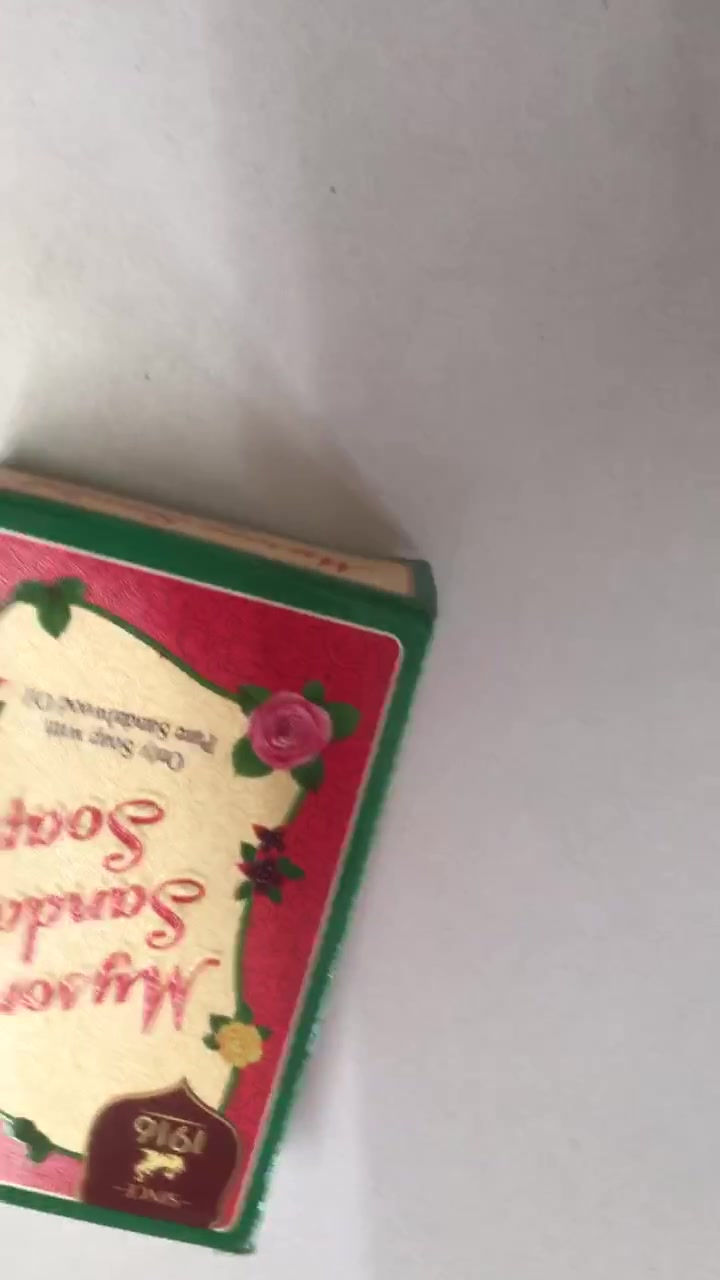mysore sandal soap: (2, 448, 433, 1253)
